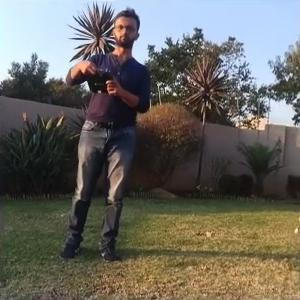follow: (54, 5, 153, 268)
